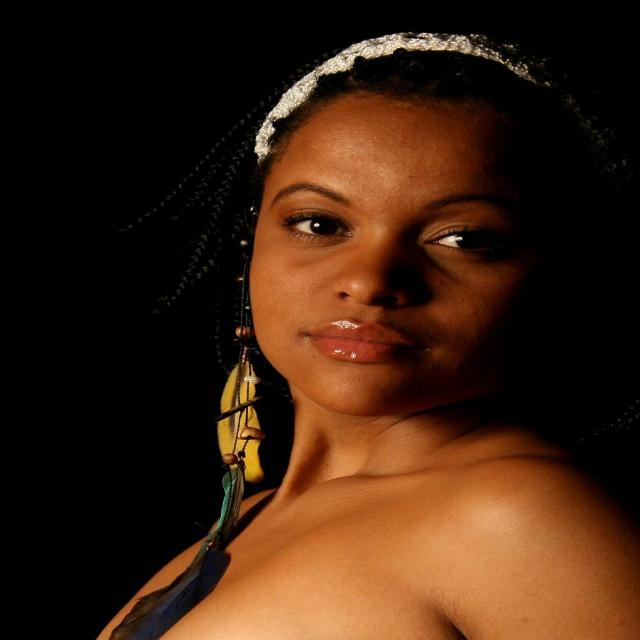no-glass: (274, 211, 514, 252)
